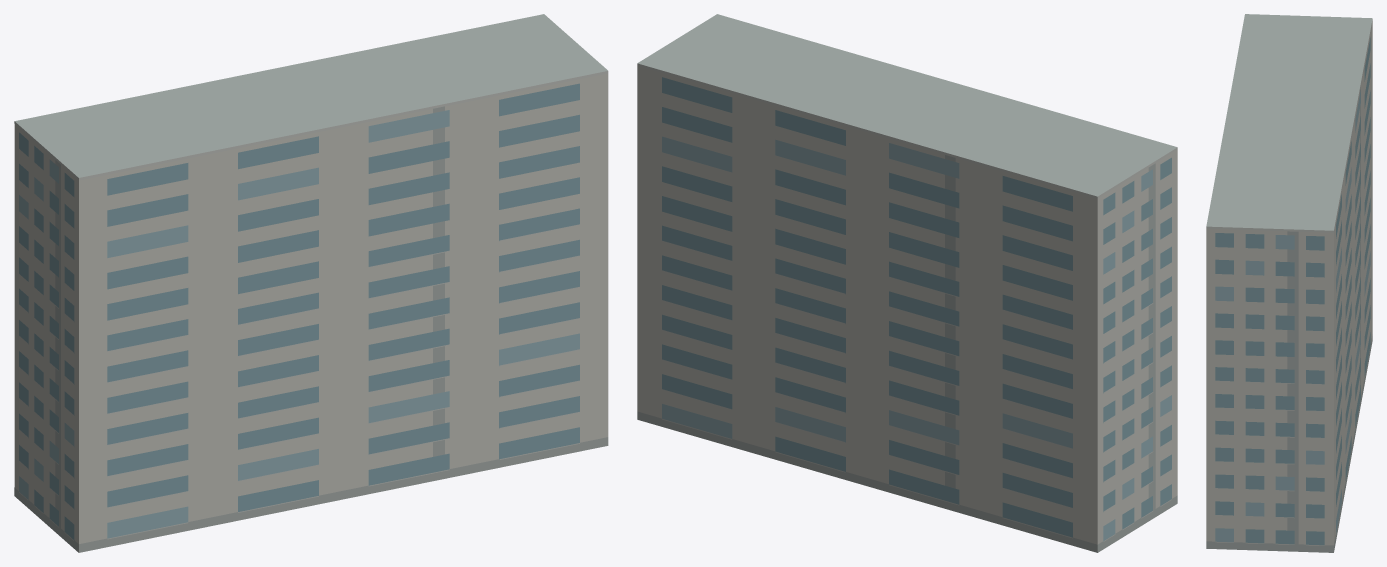
Rendered from residential-aa59814c-b4f4-4033-a468-f9ebcbdb49f9.glb.
3 views of the same model, side by side, from view 1: azimuth 30°, elevation 25°; view 2: azimuth 150°, elevation 25°; view 3: azimuth 270°, elevation 25° (orthographic). The views are drawn at different scales.
Visible parts, largest first — view 1: residential-aa59814c-b4f4-4033-a468-f9ebcbdb49f9.tmp; view 2: residential-aa59814c-b4f4-4033-a468-f9ebcbdb49f9.tmp; view 3: residential-aa59814c-b4f4-4033-a468-f9ebcbdb49f9.tmp.
Part boxes in pixels (<box>): residential-aa59814c-b4f4-4033-a468-f9ebcbdb49f9.tmp: <box>14,14,608,552</box>; residential-aa59814c-b4f4-4033-a468-f9ebcbdb49f9.tmp: <box>637,14,1177,552</box>; residential-aa59814c-b4f4-4033-a468-f9ebcbdb49f9.tmp: <box>1206,14,1372,552</box>.
Bounding box in the file's own units: 52.82 × 36.6 × 17.14.
